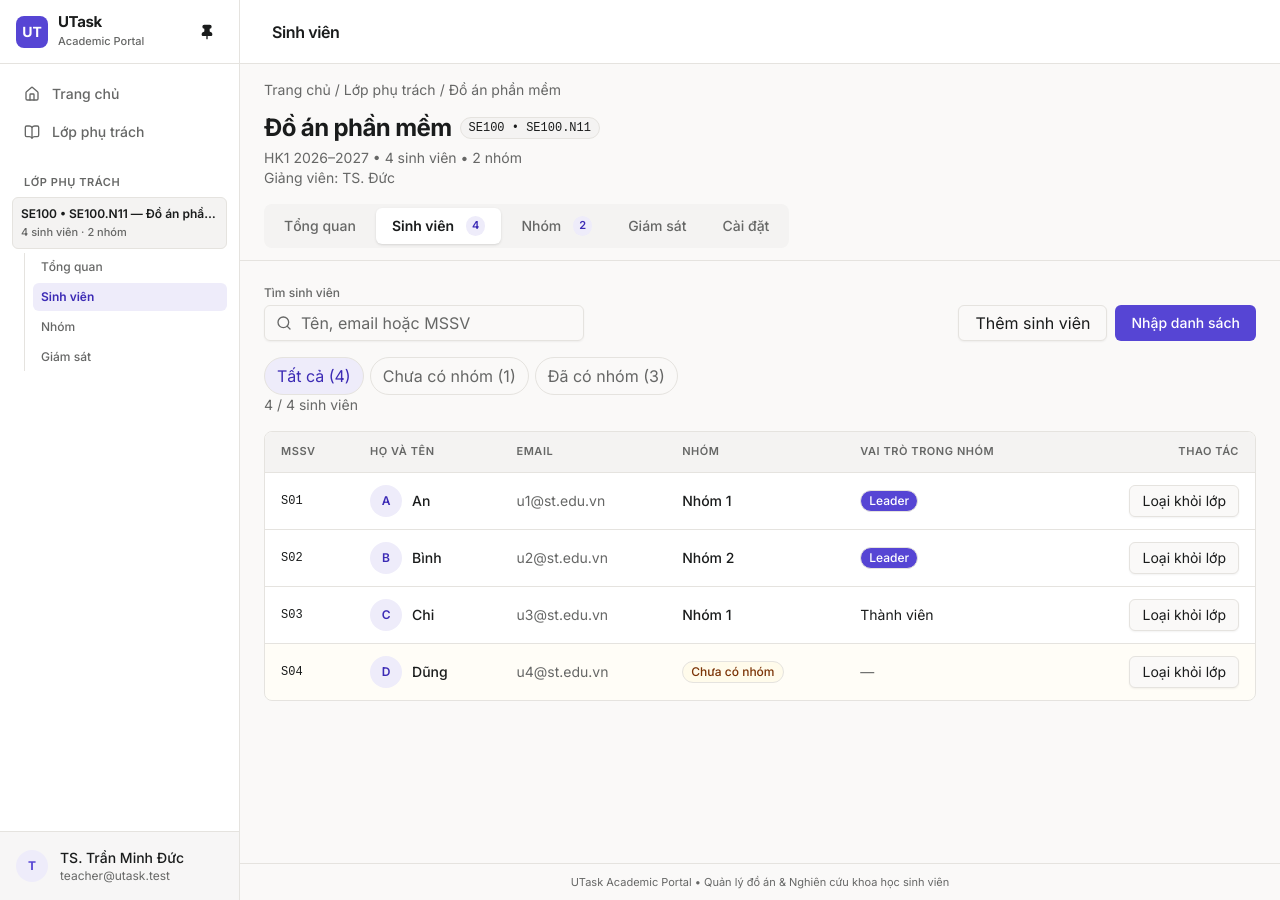
it: removing a student from the class › warns about a Leader and shows the server's refusal when no successor is set
Click the button named "Loại khỏi lớp An".
click(1184, 501)  # box [1130,485,1239,517]
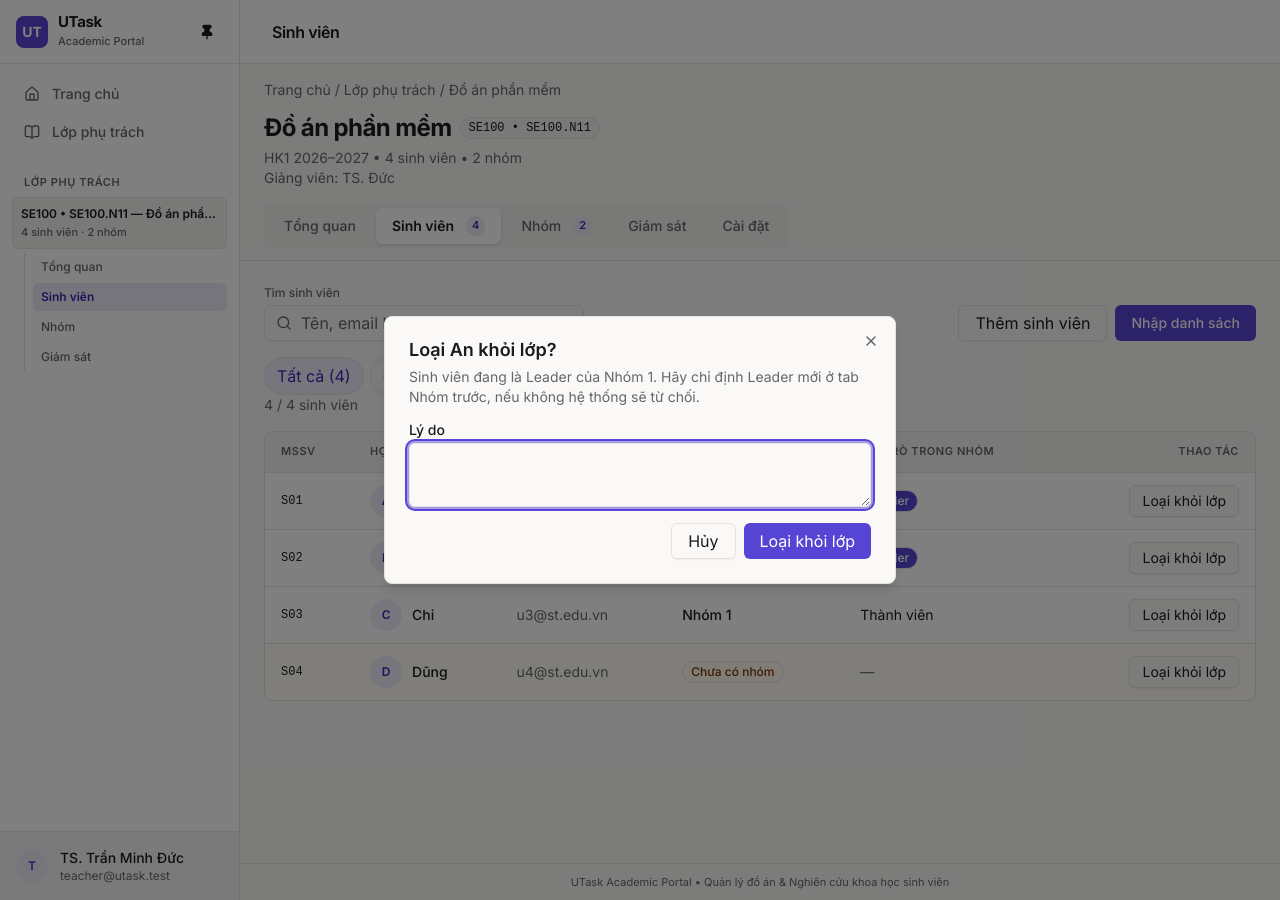
Expected: the text "đang là Leader" is shown, [409,368,859,405]
Type "Nghỉ học" into the text box labelled "Lý do".
click(640, 475); type("Nghỉ học")  # box [409,443,871,507]
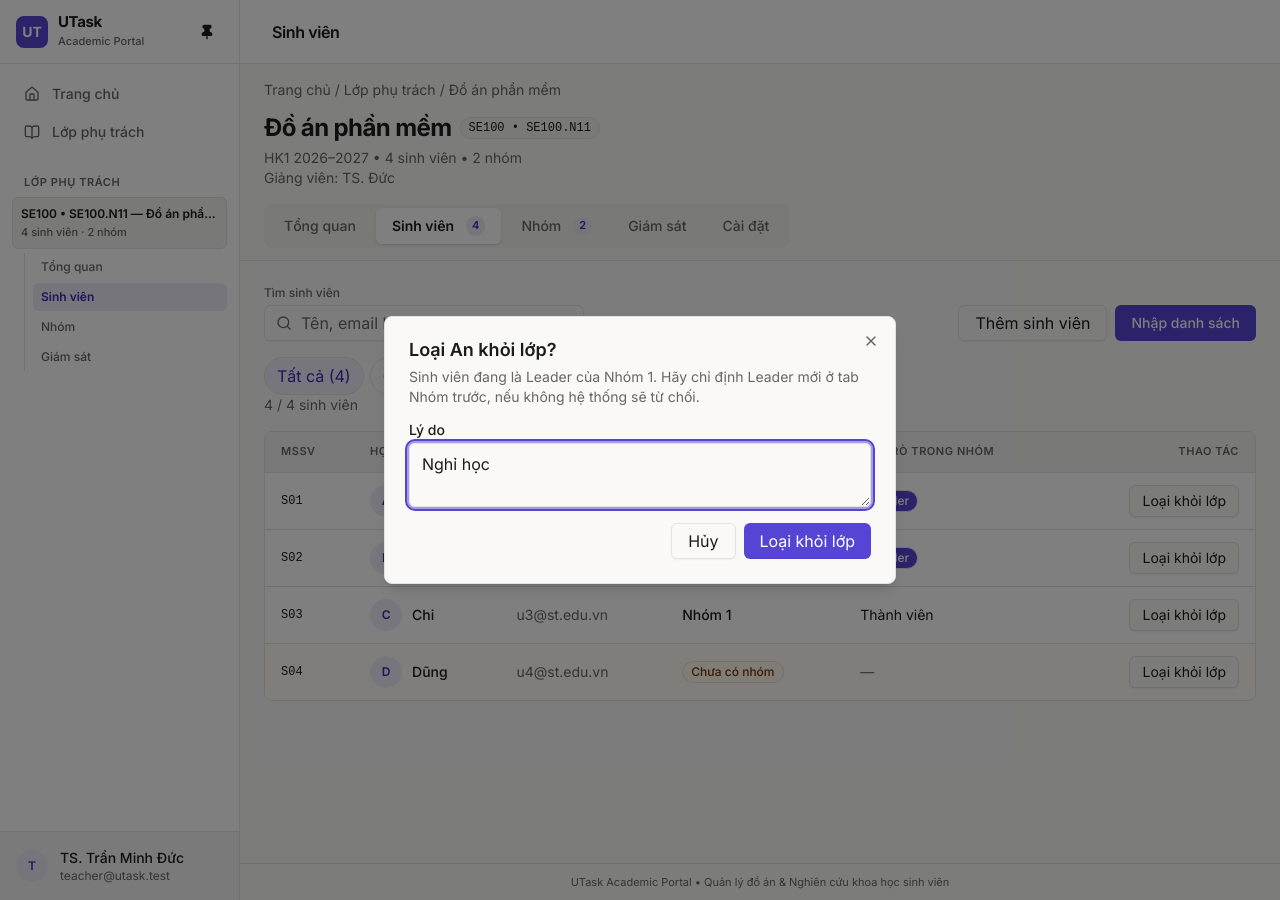
Click the button "Loại khỏi lớp".
click(807, 541)  # box [744,523,871,559]
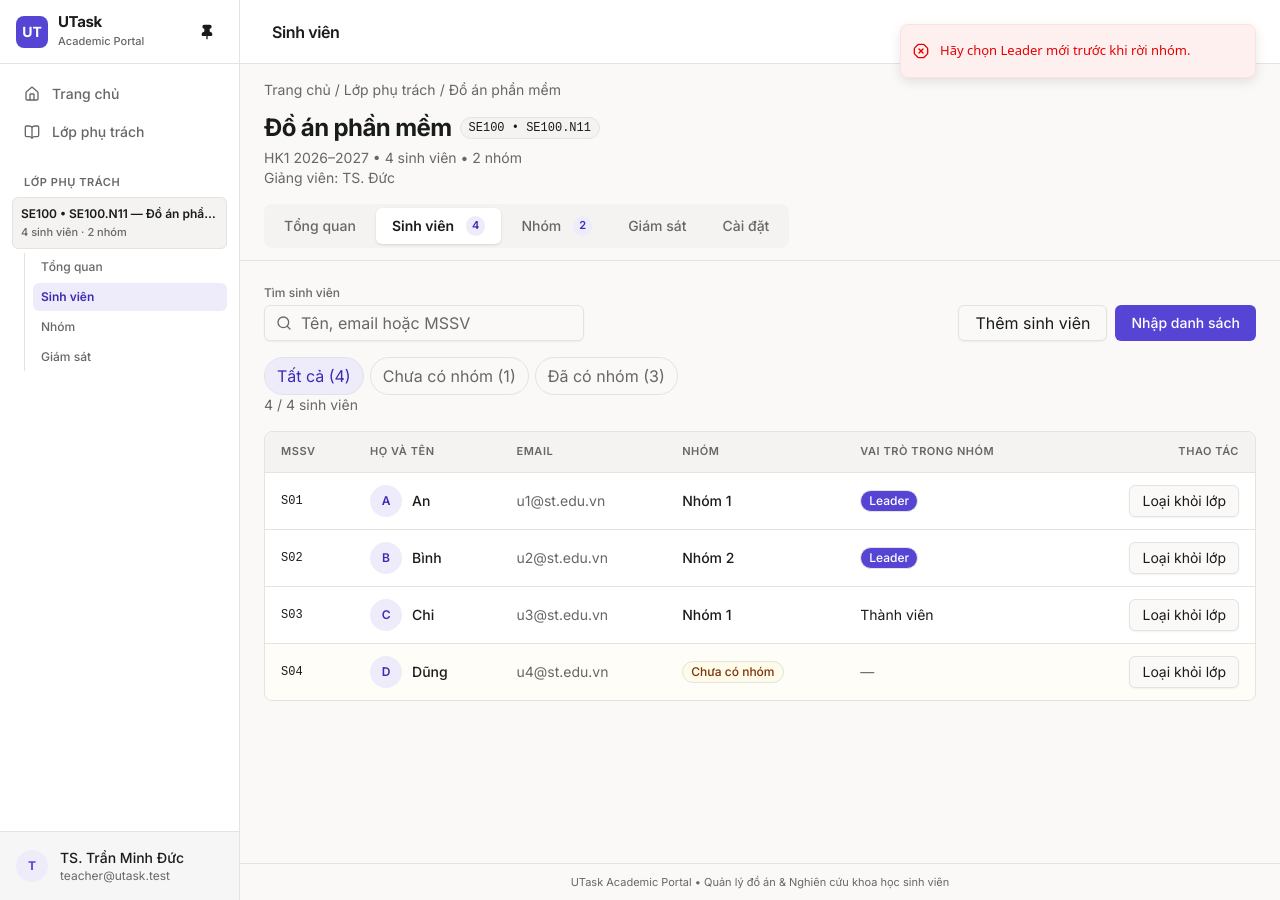
Expected: the text "Hãy chọn Leader mới trước khi rời nhóm." is shown, [940,41,1190,60]
